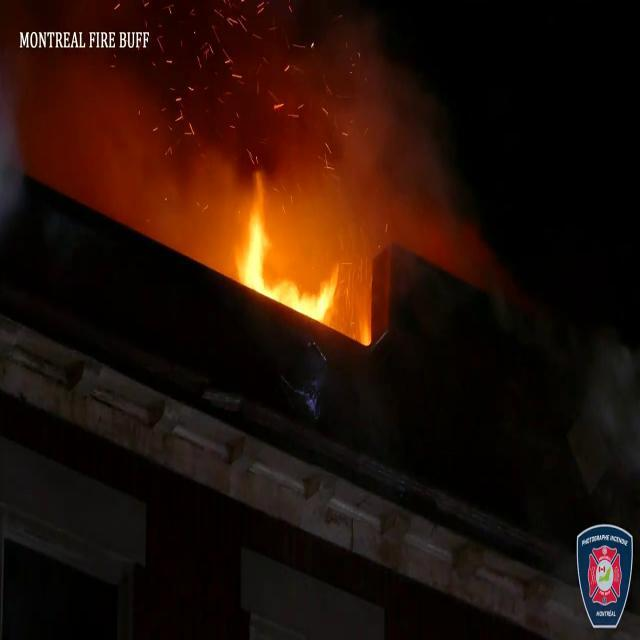Fire: (234, 184, 344, 330)
Smoke: (1, 1, 463, 258)
